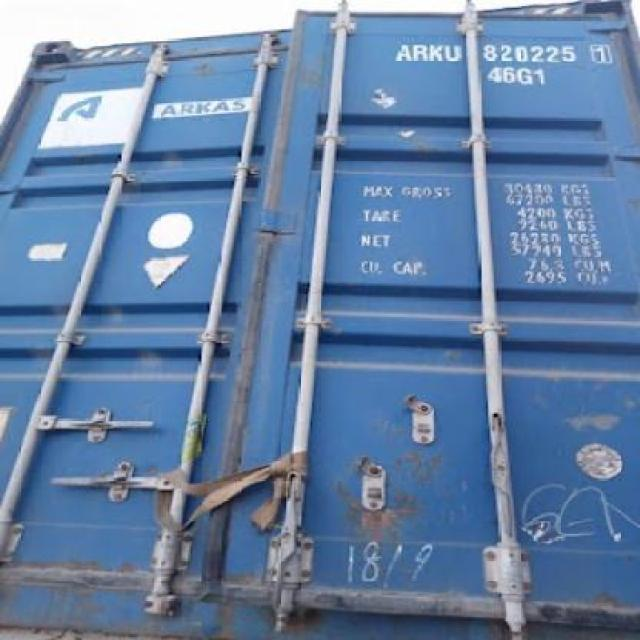ISO: (488, 64, 547, 86)
container_number: (399, 39, 601, 64)
